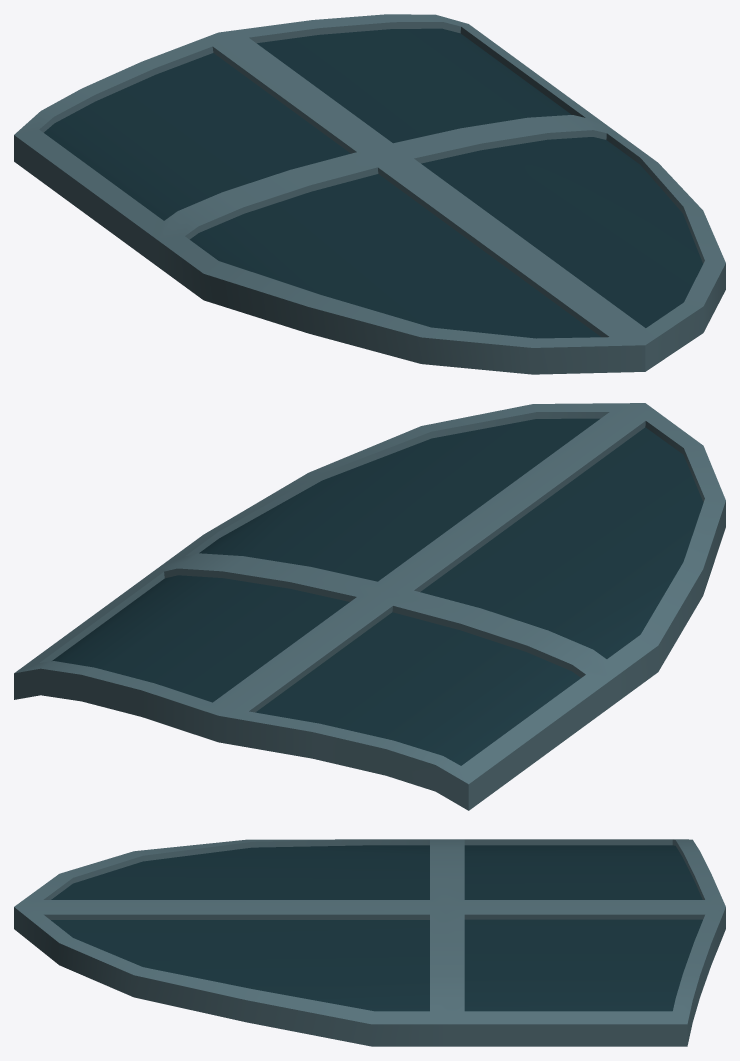
The model's file is obj_shieldCross.FBX.
3 views of the same model, one above another, from view 1: azimuth 30°, elevation 25°; view 2: azimuth 150°, elevation 25°; view 3: azimuth 270°, elevation 25° (orthographic). The views are drawn at different scales.
Visible parts, largest first — view 1: obj_shieldCross; view 2: obj_shieldCross; view 3: obj_shieldCross.
Boxes of the visible parts, x1,y1,x2,y2 form: obj_shieldCross: (14,14,725,374); obj_shieldCross: (14,403,725,810); obj_shieldCross: (14,839,725,1046).
Bounding box in the file's own units: 1.39 × 0.2249 × 2.26.
